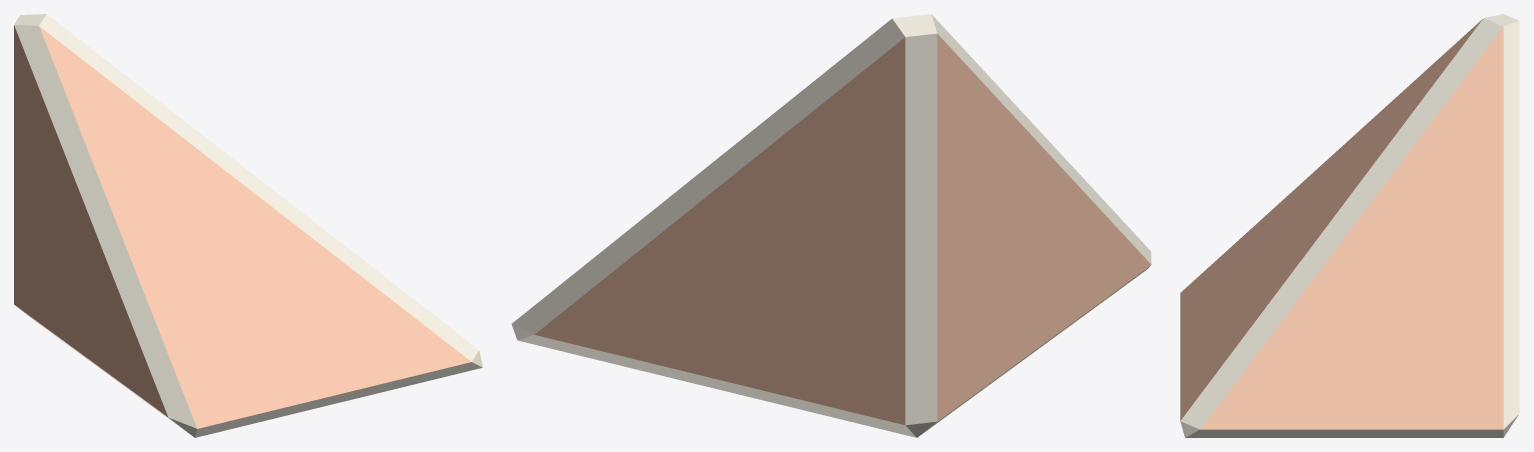
Rendered from R4B_CornerWedge_LOD1.fbx.
3 renders of one model, left to right at view 1: azimuth 30°, elevation 25°; view 2: azimuth 150°, elevation 25°; view 3: azimuth 270°, elevation 25°, orthographic. The views are drawn at different scales.
Parts seen in each view (by area): view 1: R4B_CornerWedge_LOD1; view 2: R4B_CornerWedge_LOD1; view 3: R4B_CornerWedge_LOD1.
Part boxes in pixels (bbox=[...]): R4B_CornerWedge_LOD1: bbox=[14, 14, 482, 437]; R4B_CornerWedge_LOD1: bbox=[511, 14, 1151, 437]; R4B_CornerWedge_LOD1: bbox=[1180, 14, 1519, 437].
Size of the model in its own units: 0.503 by 0.4666 by 0.503.
